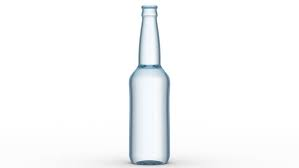bottle: (127, 3, 173, 166)
